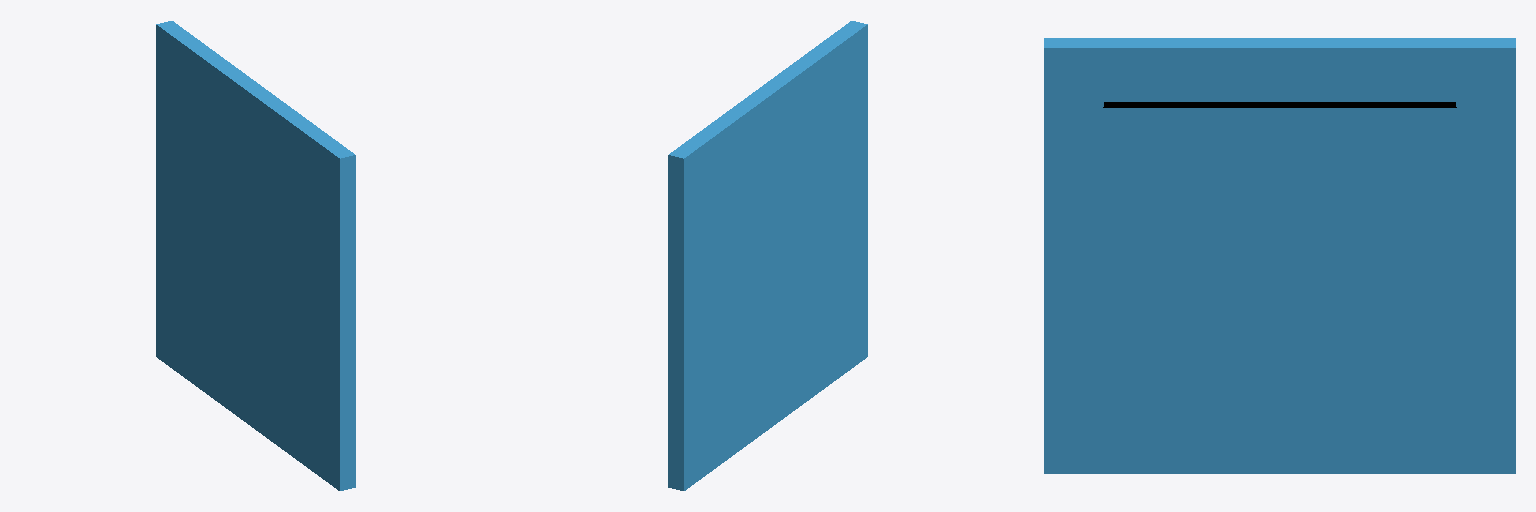
robot.urdf — aruco_6x6_0:
<robot name="aruco_6x6_0">
    <link name="aruco_6x6_0"/>
    <joint name="base" type="fixed">
        <parent link="aruco_6x6_0"/>
        <child link="white_board_6x6_0"/>
        <origin xyz="0.0 0.0 0.0" rpy="0.0 0.0 0.0"/>
    </joint>
    <link name="white_board_6x6_0">
        <visual>
            <origin rpy="0 0 0" xyz="0 0 0"/>
            <geometry>
                <mesh filename="package://robotica_movel/src/aruco/aruco_6x6_0_15cm.dae"/>
            </geometry>
        </visual>
        <visual>
            <origin xyz="-0.005 0.0 0.0" rpy="0.0 -1.5707 0.0"/>
            <geometry>
                <box size="0.20 0.20 0.01"/>
            </geometry>
        </visual>
        <collision>
            <origin rpy="0 0 0" xyz="0 0 0"/>
            <geometry>
                <mesh filename="package://robotica_movel/src/aruco/aruco_6x6_0_15cm.dae"/>
            </geometry>
        </collision>
        <inertial>
            <origin rpy="0 0 0" xyz="0.000000 0.000000 0.000000"/>
            <mass value="35.336455"/>
            <inertia ixx="1.849155" ixy="-0.000354" ixz="-0.154188" iyy="1.662671" iyz="0.003292" izz="0.802239"/>
        </inertial>
    </link>
    <gazebo>
        <static>true</static>
    </gazebo>
</robot>

--- Render facts (derived) ---
3 views of the same robot in one strip: view 1: azimuth 30°, elevation 25°; view 2: azimuth 150°, elevation 25°; view 3: azimuth 270°, elevation 25° (orthographic).
Model aruco_6x6_0 with 2 links and 1 joints (1 fixed), rooted at aruco_6x6_0, posed all joints at 0.
Visible links, largest first — view 1: white_board_6x6_0; view 2: white_board_6x6_0; view 3: white_board_6x6_0.
Boxes of the visible links, x1,y1,x2,y2 form: white_board_6x6_0: [156, 21, 355, 490]; white_board_6x6_0: [668, 21, 867, 490]; white_board_6x6_0: [1044, 38, 1515, 473].
Size in the robot's own frame: 0.0175 by 0.2 by 0.2 metres.
1 mesh visuals loaded from 1 distinct referenced files (1 Collada DAE).